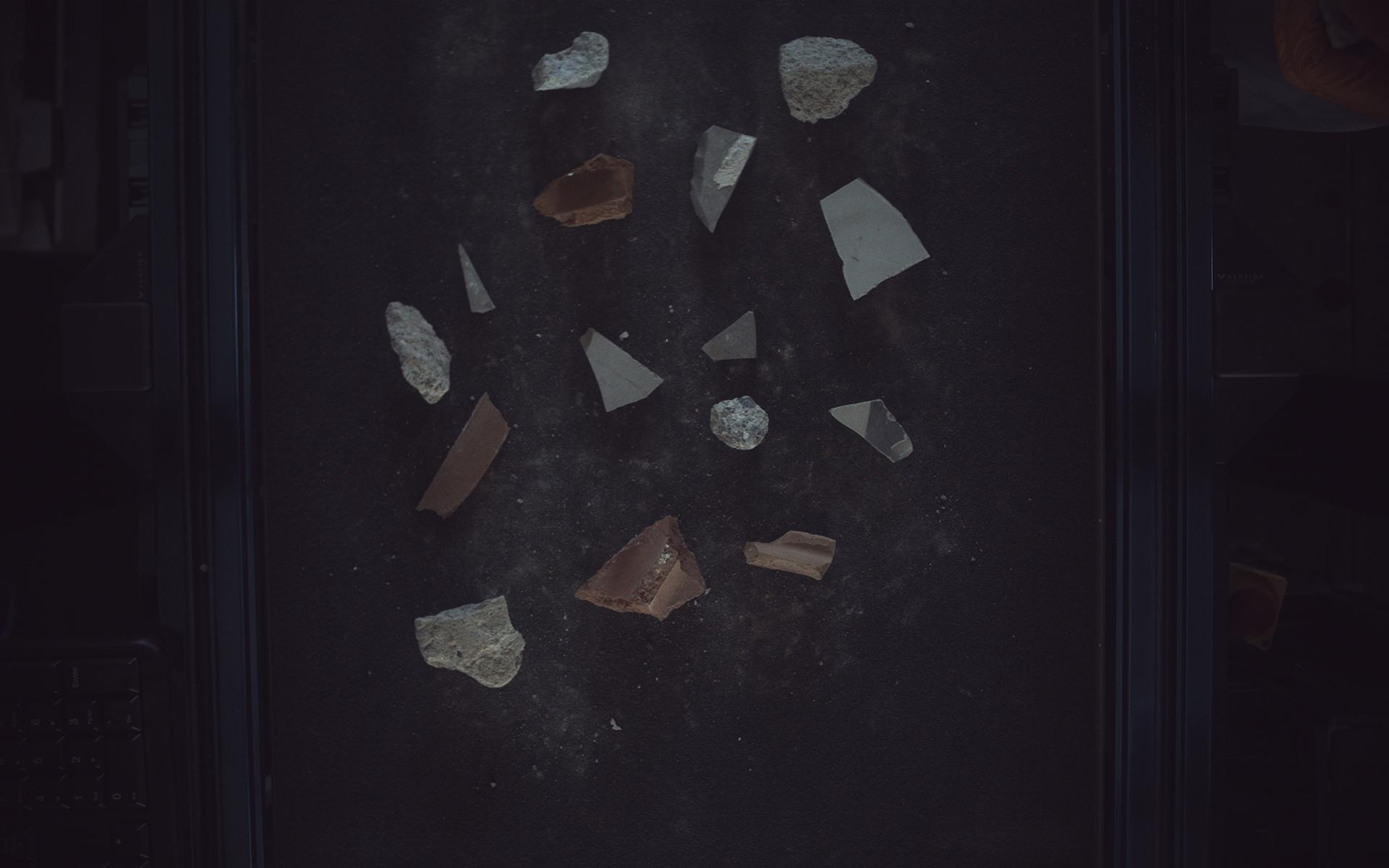brick: (576, 516, 708, 621), (417, 393, 509, 518), (535, 153, 634, 226), (746, 531, 838, 581)
concrete: (415, 597, 525, 689), (781, 35, 879, 122), (386, 301, 451, 404), (532, 30, 609, 90), (711, 396, 770, 450)
tile: (822, 177, 931, 299), (692, 124, 757, 231), (581, 328, 663, 412), (832, 399, 915, 463), (703, 310, 757, 360), (459, 243, 496, 313)
